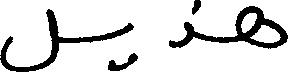X: (0, 4, 57, 71), (236, 1, 287, 53), (171, 17, 191, 52), (126, 18, 132, 71)
